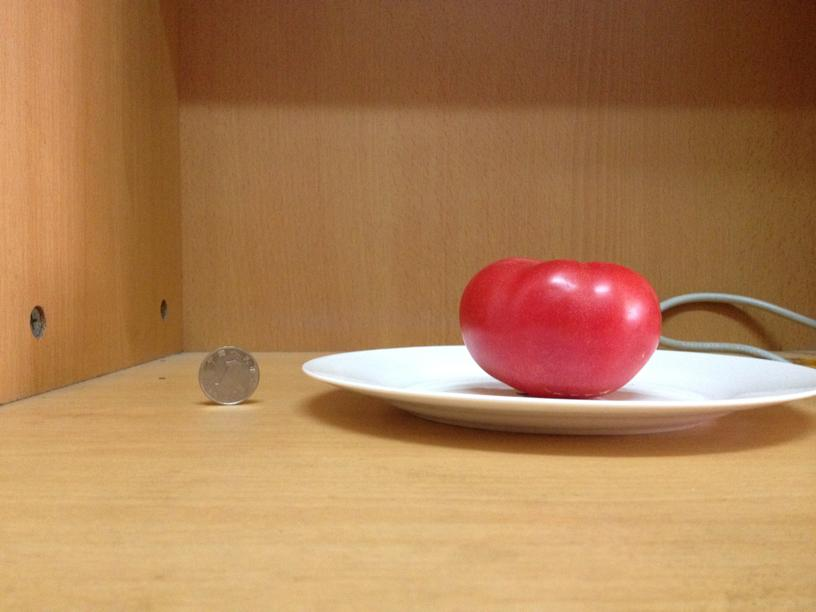coin: (193, 343, 263, 403)
tomato: (460, 255, 662, 399)
